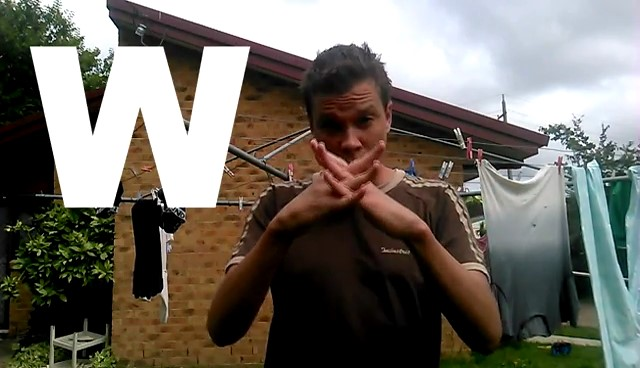W: (274, 132, 424, 242)
